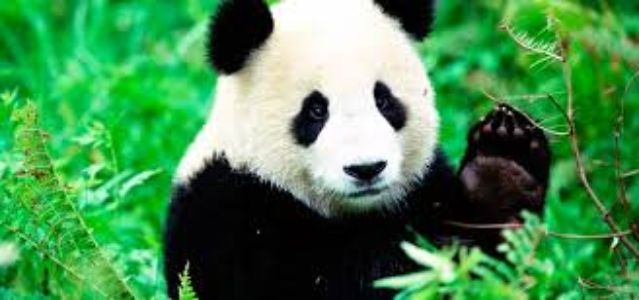bear: (171, 1, 549, 283)
